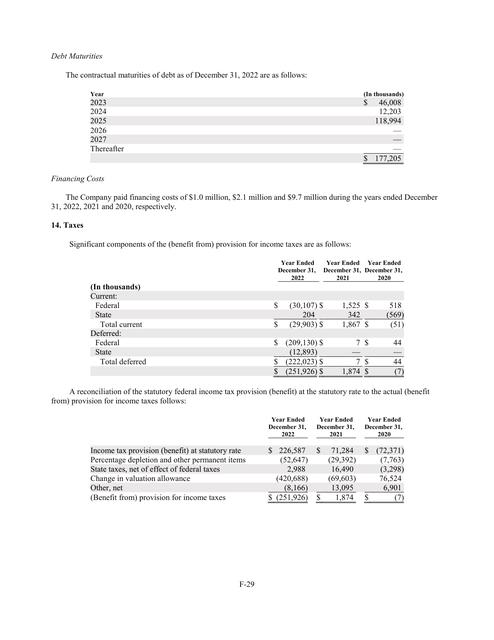box: (88, 259, 407, 379), (89, 416, 406, 505), (87, 89, 407, 167)
